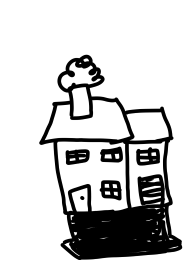bottom_placed_house: (2, 1, 184, 260)
closed_window: (97, 175, 125, 203), (133, 143, 163, 168), (98, 143, 126, 169), (64, 145, 92, 168)
door: (132, 172, 169, 214), (65, 184, 97, 215)
roof: (32, 96, 140, 147)
shadow: (51, 210, 184, 260)
smoking_chimney: (51, 48, 107, 117)
